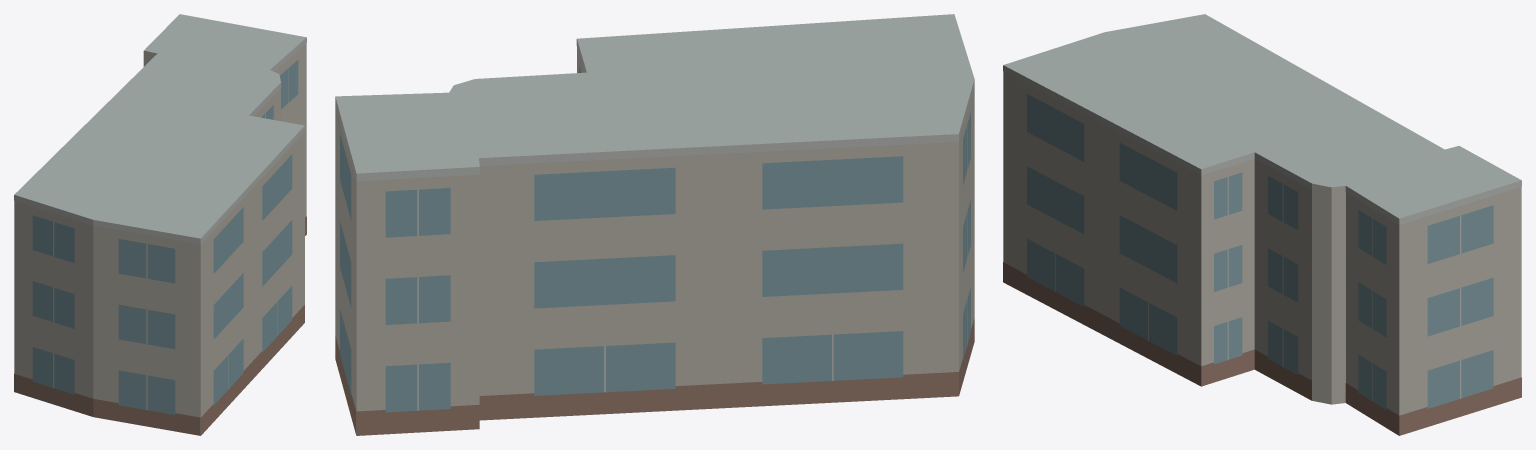
The model's file is survey-upis-32492568.glb.
3 renders of one model, left to right at view 1: azimuth 30°, elevation 25°; view 2: azimuth 150°, elevation 25°; view 3: azimuth 270°, elevation 25°, orthographic. The views are drawn at different scales.
Visible parts, largest first — view 1: survey-upis-32492568.tmp; view 2: survey-upis-32492568.tmp; view 3: survey-upis-32492568.tmp.
Boxes of the visible parts, box(x1,y1,x2,y2) form: survey-upis-32492568.tmp: box(14, 14, 306, 435); survey-upis-32492568.tmp: box(335, 14, 974, 435); survey-upis-32492568.tmp: box(1003, 14, 1521, 435).
Bounding box in the file's own units: 16.78 × 8.3 × 17.97.
